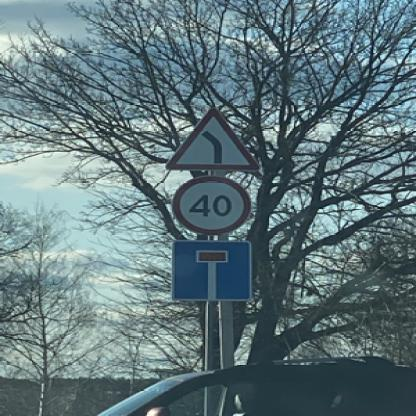speedlimit: (170, 175, 250, 234)
